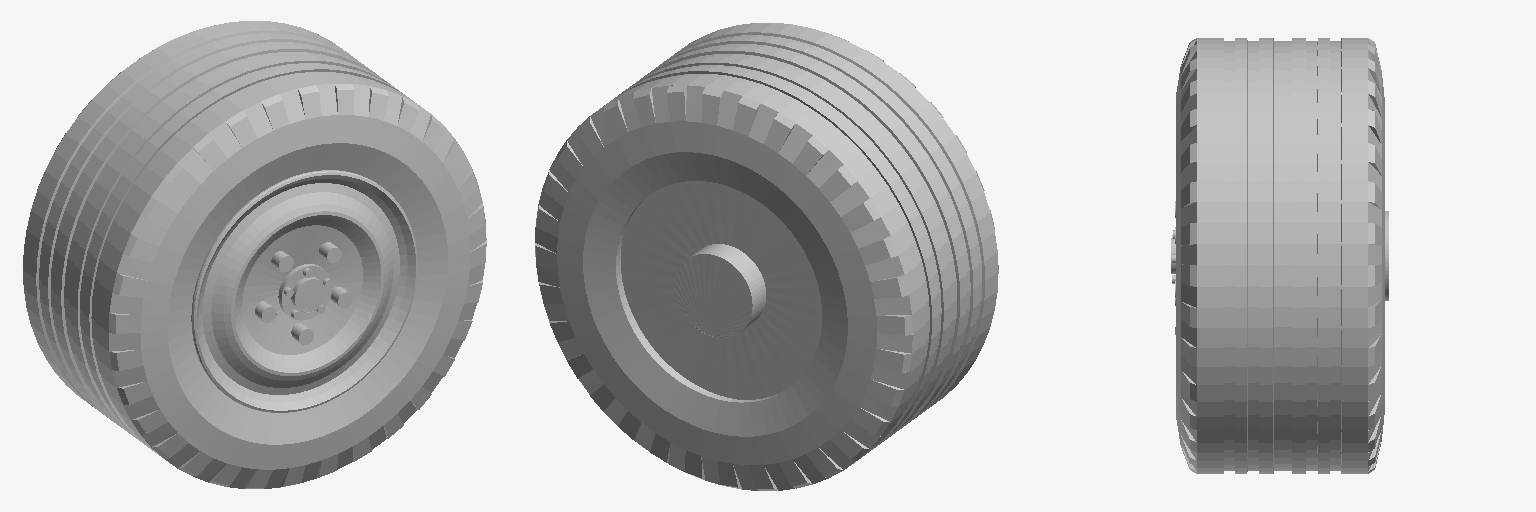
File: obj_wheels_big_two.obj
The picture shows the model from 3 angles: view 1: azimuth 30°, elevation 25°; view 2: azimuth 150°, elevation 25°; view 3: azimuth 270°, elevation 25°; orthographic projection.
Visible parts, largest first — view 1: Цилиндр_Цилиндр.002; view 2: Цилиндр_Цилиндр.002; view 3: Цилиндр_Цилиндр.002.
Part boxes in pixels (bbox=[...]): Цилиндр_Цилиндр.002: bbox=[23, 21, 486, 488]; Цилиндр_Цилиндр.002: bbox=[535, 23, 998, 490]; Цилиндр_Цилиндр.002: bbox=[1171, 38, 1388, 473].
Bounding box in the file's own units: 4 × 4 × 2.